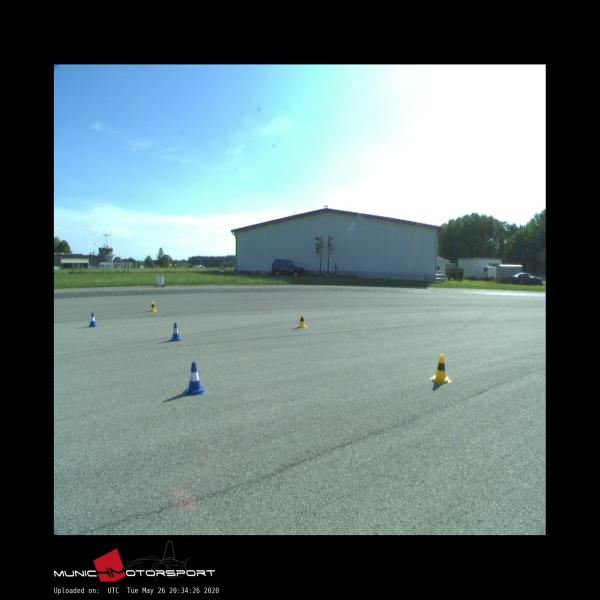blue_cone: (183, 363, 204, 395), (169, 323, 182, 341), (88, 313, 97, 327)
yellow_cone: (430, 355, 450, 382), (296, 313, 306, 328), (150, 301, 156, 311)
